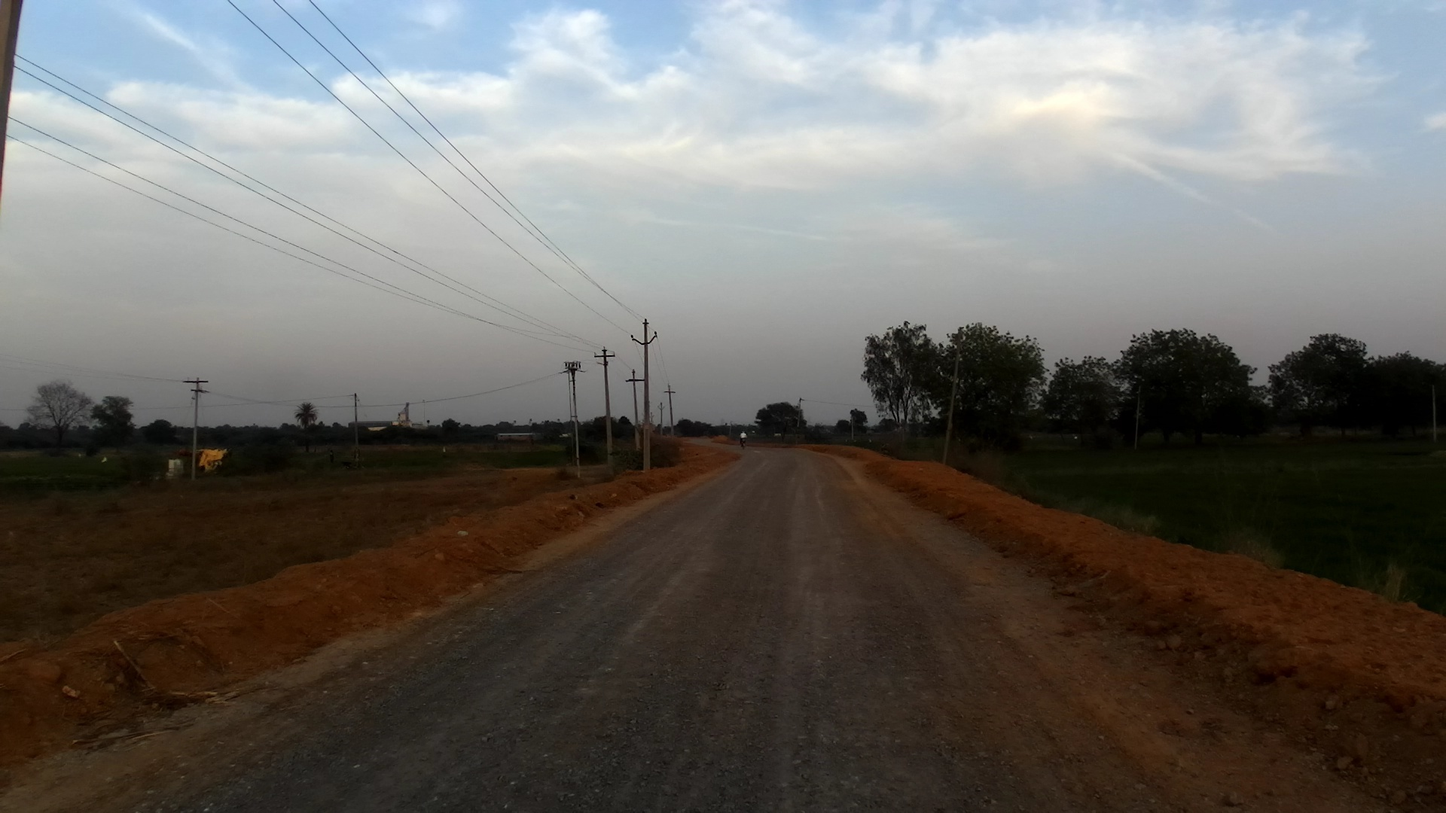bicycle: (740, 437, 748, 450)
rider: (737, 428, 748, 443)
